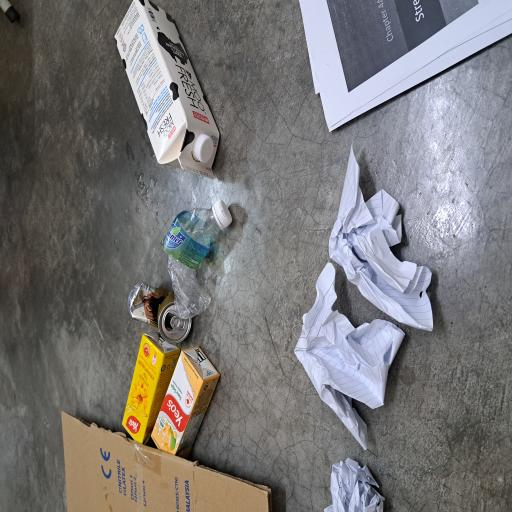can: (126, 168, 174, 254)
cardboard: (0, 80, 76, 368)
drink carton: (249, 151, 384, 295), (40, 200, 124, 293), (50, 162, 134, 242)
paper: (46, 393, 187, 512), (285, 396, 384, 512), (135, 438, 277, 512), (0, 431, 42, 512)
plastic bottle: (144, 219, 228, 294)
plastic bottle cap: (262, 258, 284, 286), (212, 285, 235, 310)
pop tab: (136, 228, 148, 248)
